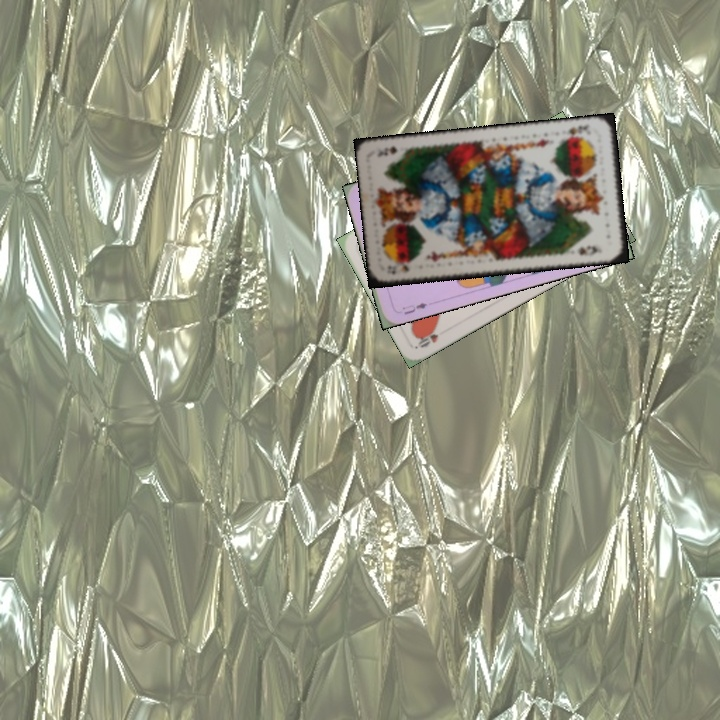EU: (393, 299, 430, 317)
HO: (413, 325, 441, 351)
SK: (559, 121, 592, 142), (383, 261, 411, 277)
